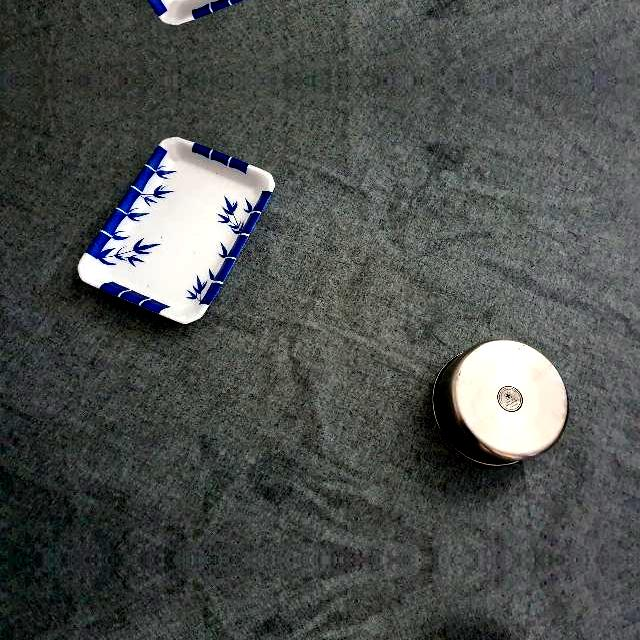Styrofoam: (76, 138, 274, 326), (77, 136, 275, 323)
